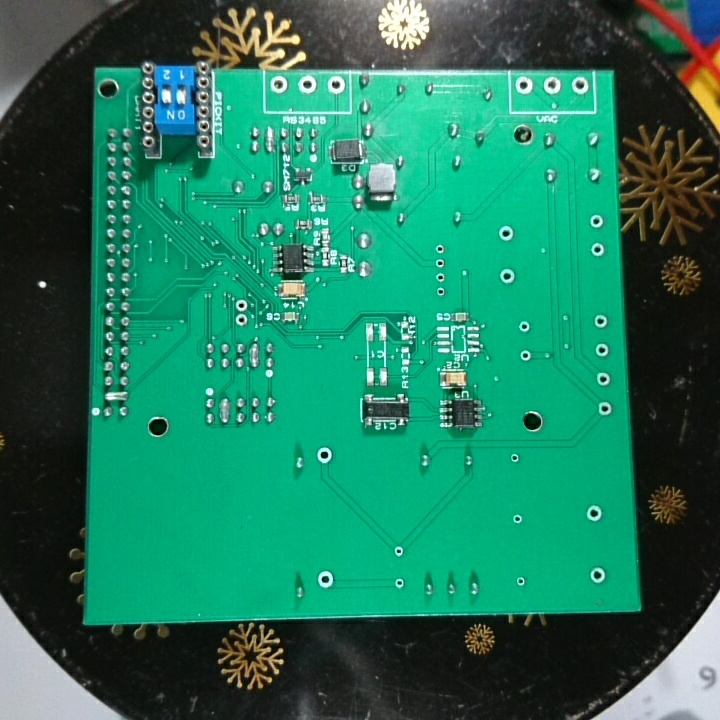F: (567, 74, 592, 98), (267, 74, 292, 98), (513, 75, 539, 98), (540, 75, 565, 98), (324, 75, 348, 98), (584, 502, 606, 526), (495, 221, 517, 243), (315, 443, 334, 468), (587, 566, 610, 586), (296, 75, 319, 95), (316, 569, 336, 590), (594, 400, 615, 420), (498, 266, 518, 287), (587, 212, 606, 231), (516, 347, 536, 365), (592, 312, 610, 332), (595, 370, 613, 389), (589, 240, 607, 259), (233, 312, 250, 331), (593, 340, 609, 360), (233, 296, 251, 313), (516, 318, 530, 338), (513, 573, 529, 590), (393, 575, 407, 593), (434, 282, 452, 296), (508, 450, 522, 466), (433, 255, 449, 269), (510, 512, 524, 527), (392, 545, 405, 560), (434, 240, 447, 254), (435, 270, 447, 283)
P: (217, 396, 233, 426), (262, 123, 277, 155), (101, 389, 130, 404), (247, 340, 260, 371)
